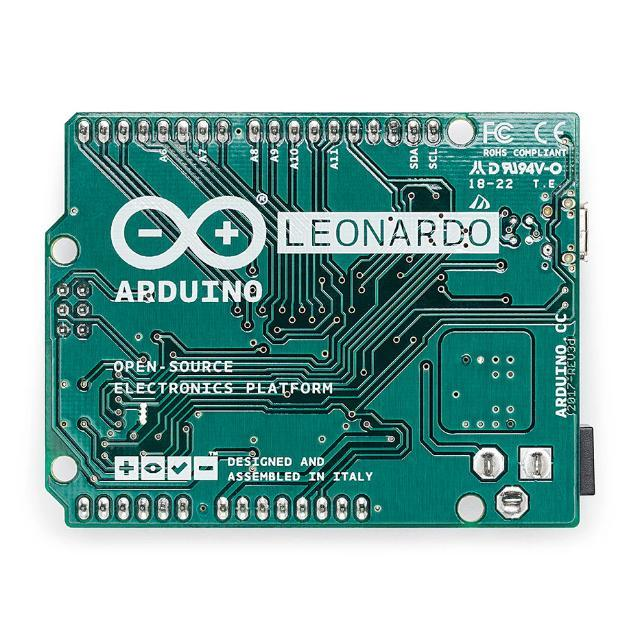Arduino-leonardo: (46, 113, 595, 529)
